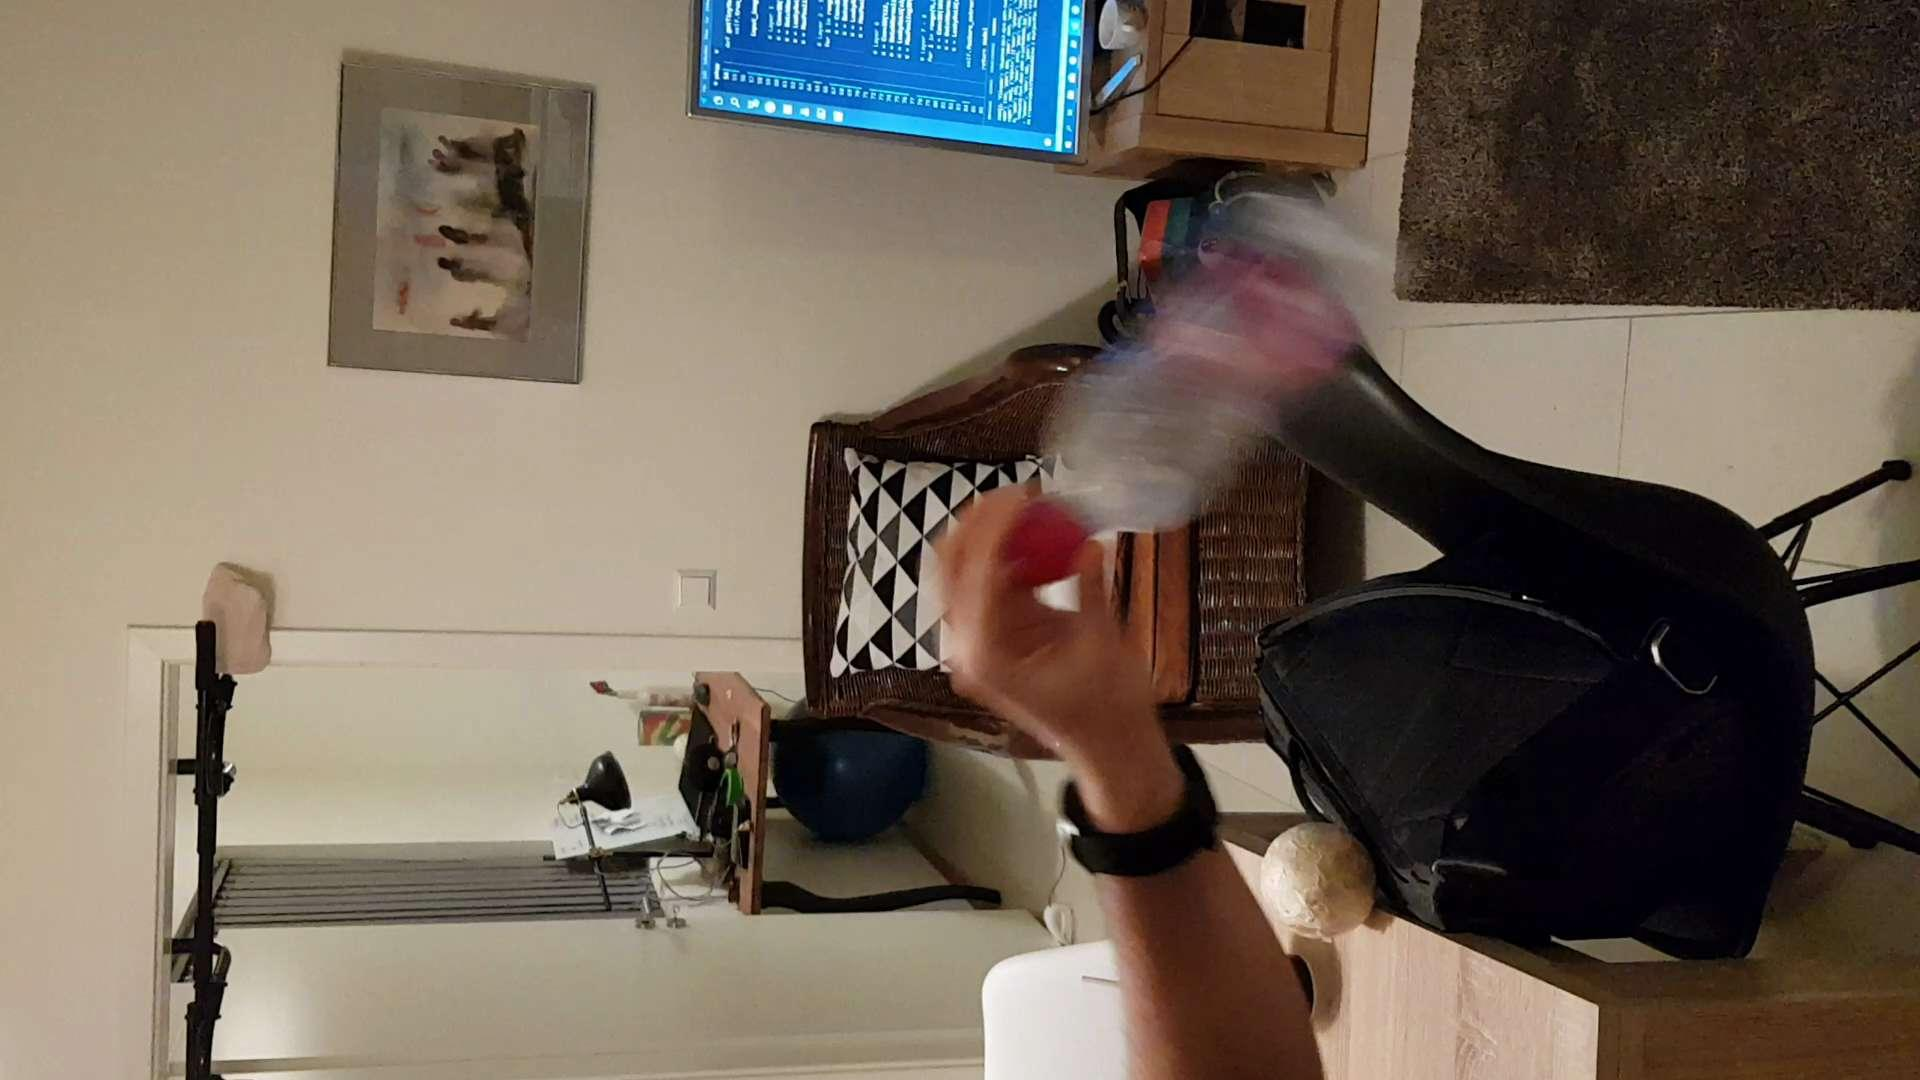Bottle: (1000, 193, 1381, 599)
